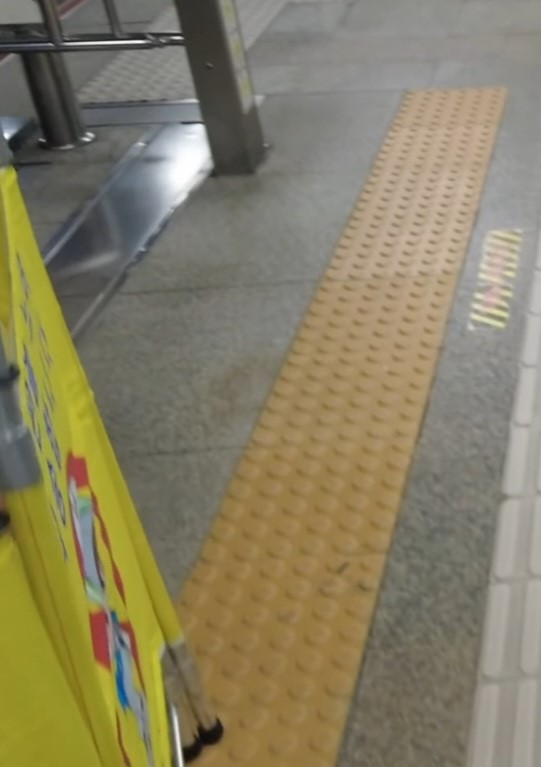warningBlock: (186, 544, 369, 673), (252, 449, 400, 564), (270, 372, 421, 442), (327, 279, 429, 374), (365, 186, 490, 231), (390, 134, 470, 179), (353, 243, 457, 277), (412, 92, 493, 134)
